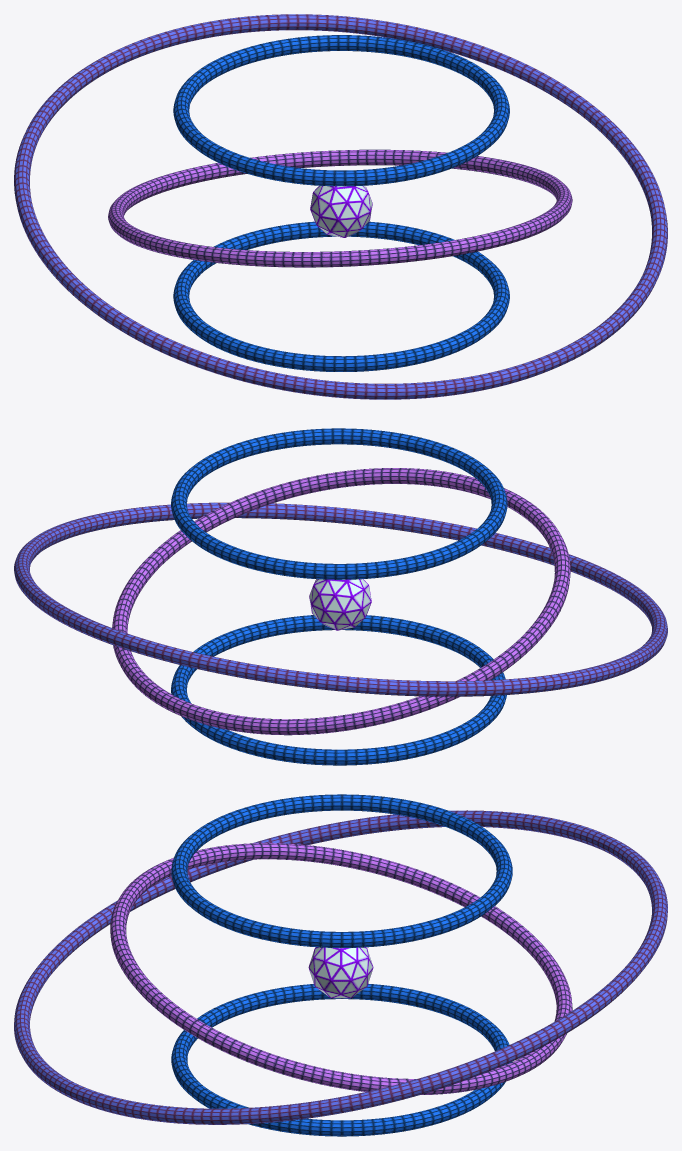
Rendered from ringworld.obj.
The picture shows the model from 3 angles, top to bottom: view 1: azimuth 30°, elevation 25°; view 2: azimuth 150°, elevation 25°; view 3: azimuth 270°, elevation 25°; orthographic projection.
Visible parts, largest first — view 1: Torus.002; view 2: Torus.002; view 3: Torus.002.
Boxes of the visible parts, box(x1,y1,x2,y2) form: Torus.002: box(14, 14, 667, 399); Torus.002: box(14, 428, 667, 765); Torus.002: box(14, 794, 667, 1136).
Bounding box in the file's own units: 20.5 × 6.89 × 20.1.
